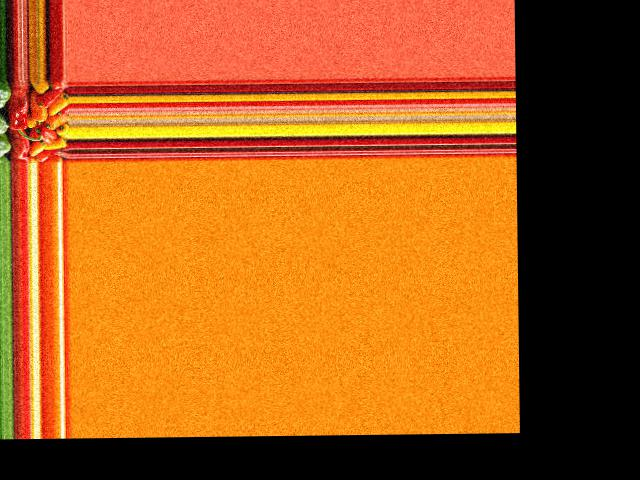bell_pepper: (37, 86, 64, 108)
